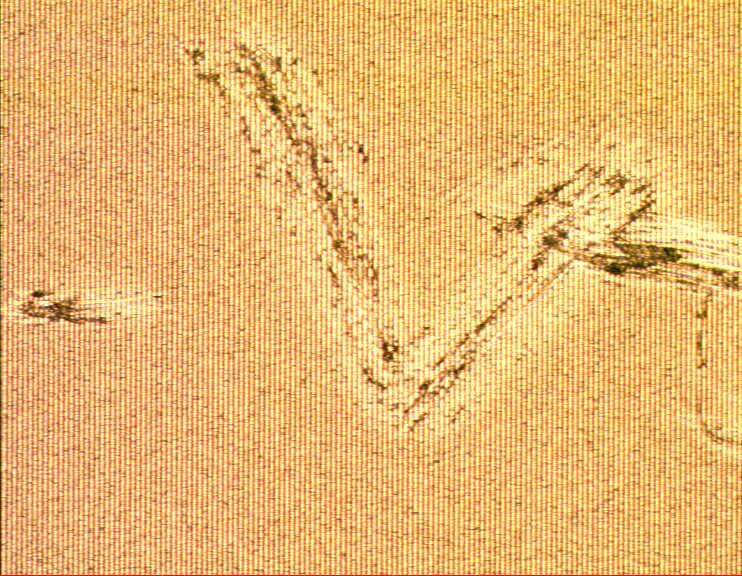SCRATCH: (2, 13, 742, 466)
